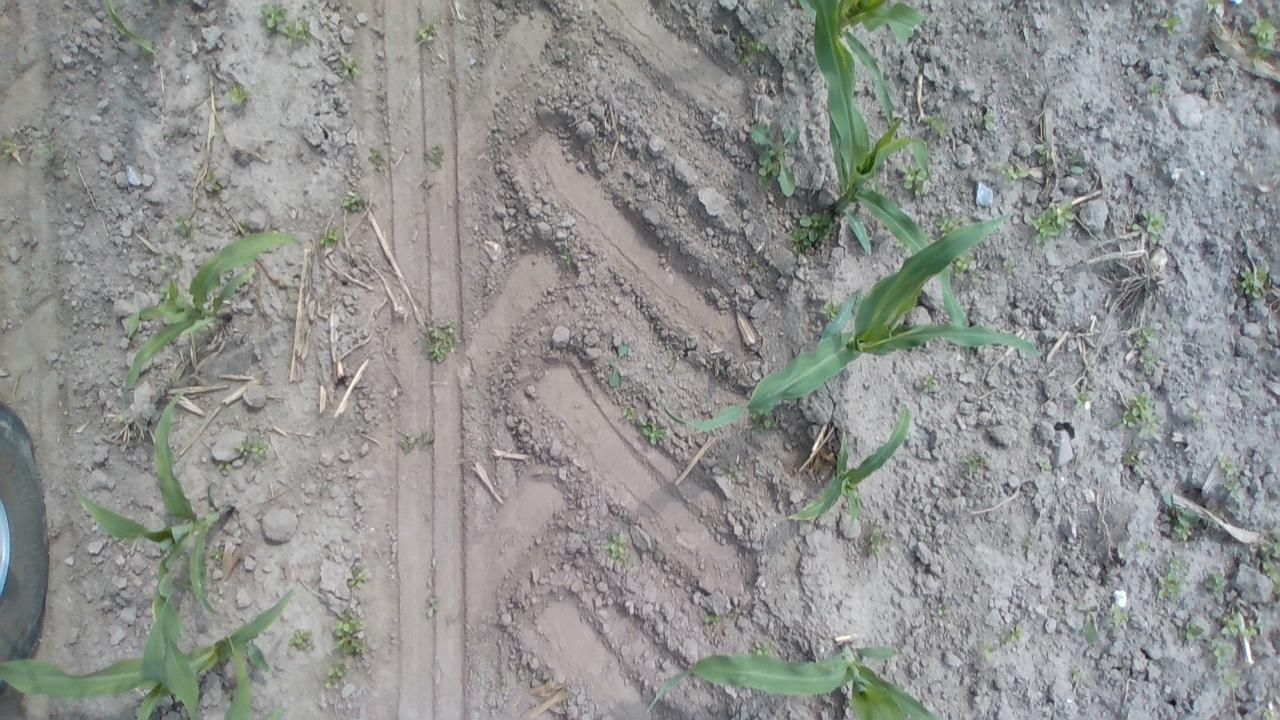Maize: (658, 204, 1047, 436), (66, 382, 238, 716), (0, 582, 305, 720), (826, 87, 971, 360), (111, 229, 306, 405), (642, 638, 944, 720), (798, 0, 923, 130), (794, 403, 920, 526)
Weeds: (750, 119, 806, 201), (789, 208, 839, 258), (0, 124, 62, 164), (1206, 636, 1242, 698), (1164, 494, 1206, 544), (420, 314, 460, 366), (621, 402, 667, 447), (1118, 391, 1160, 437), (1032, 203, 1078, 243), (334, 606, 368, 658), (1156, 552, 1190, 602), (1125, 207, 1167, 247), (1217, 603, 1261, 641), (1247, 16, 1280, 66), (1212, 452, 1242, 496), (604, 339, 630, 389), (732, 31, 768, 67), (897, 159, 934, 192), (864, 525, 896, 563), (217, 74, 252, 107), (1239, 263, 1268, 302), (235, 432, 272, 462), (1134, 324, 1156, 373), (1263, 524, 1280, 586), (1141, 72, 1172, 104), (934, 211, 964, 244), (996, 158, 1030, 187), (604, 526, 630, 562), (398, 430, 436, 454), (1202, 568, 1232, 598), (958, 448, 989, 477), (1180, 616, 1206, 650), (1078, 613, 1104, 647), (344, 560, 371, 592), (340, 188, 373, 214), (1065, 384, 1095, 411), (416, 19, 444, 47), (1002, 624, 1032, 650), (288, 624, 314, 654), (325, 662, 351, 692), (257, 2, 287, 28), (366, 147, 392, 176), (284, 21, 313, 47), (924, 111, 950, 140), (757, 408, 782, 438), (422, 143, 448, 171), (1192, 0, 1229, 19), (176, 212, 200, 241), (336, 54, 362, 80), (746, 638, 776, 660), (560, 246, 582, 275), (1108, 598, 1132, 624), (1118, 444, 1146, 466), (320, 228, 344, 252), (703, 605, 729, 627), (1156, 15, 1182, 36), (918, 372, 942, 394), (982, 112, 1001, 139), (951, 252, 976, 272), (1186, 404, 1208, 426), (980, 640, 1004, 660), (928, 602, 954, 620), (1133, 536, 1154, 558), (1033, 455, 1055, 476), (203, 171, 225, 192), (722, 462, 738, 490), (207, 542, 225, 566), (826, 296, 841, 322), (1066, 668, 1092, 682), (1259, 705, 1280, 720)
